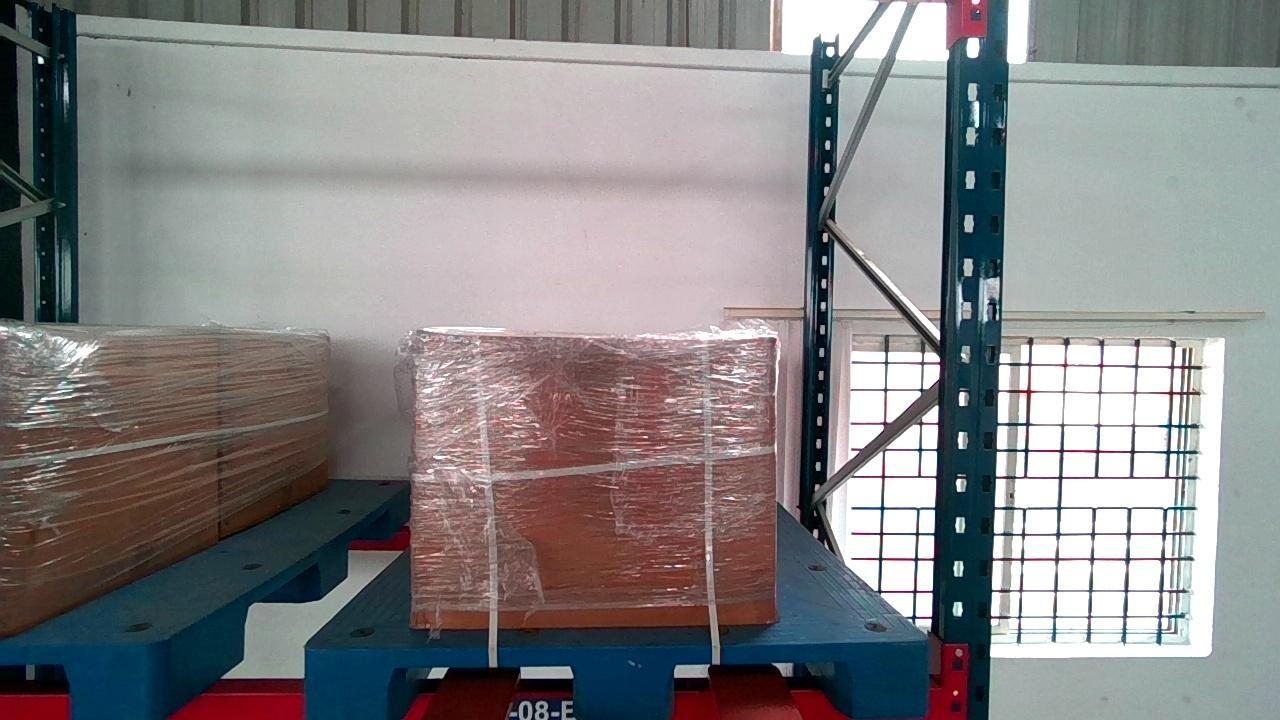small_pallet: (304, 642, 928, 720)
